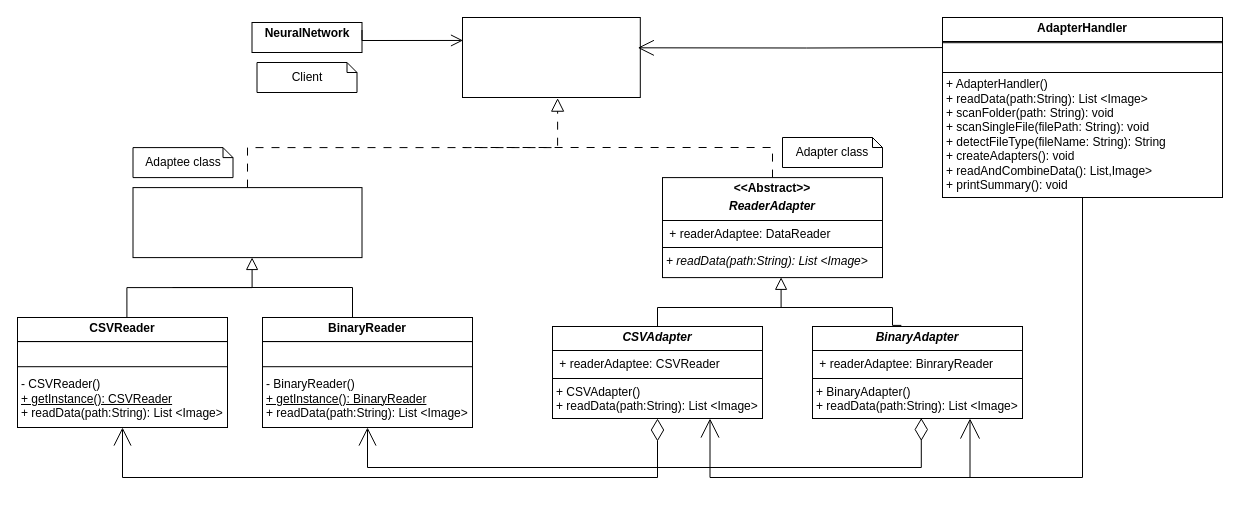
The diagram is 1240 pixels wide and 518 high, and some of its shapes have lost their labels. The box of each missing label's shape, as (x1, y1, x2, y2) in pixels:
- adapters: Map<String, Object> - filesByType: Map<String, List<String>>: (942, 42, 1222, 72)
- instance: BinaryReader: (262, 341, 472, 367)
- instance: CSVReader: (16, 341, 228, 367)
<<Abstract>> DataReader + readData(path:String): List < Image>: (132, 187, 362, 258)
<<interface>> ReaderInterface + readData(path: String): void: (462, 16, 640, 98)
